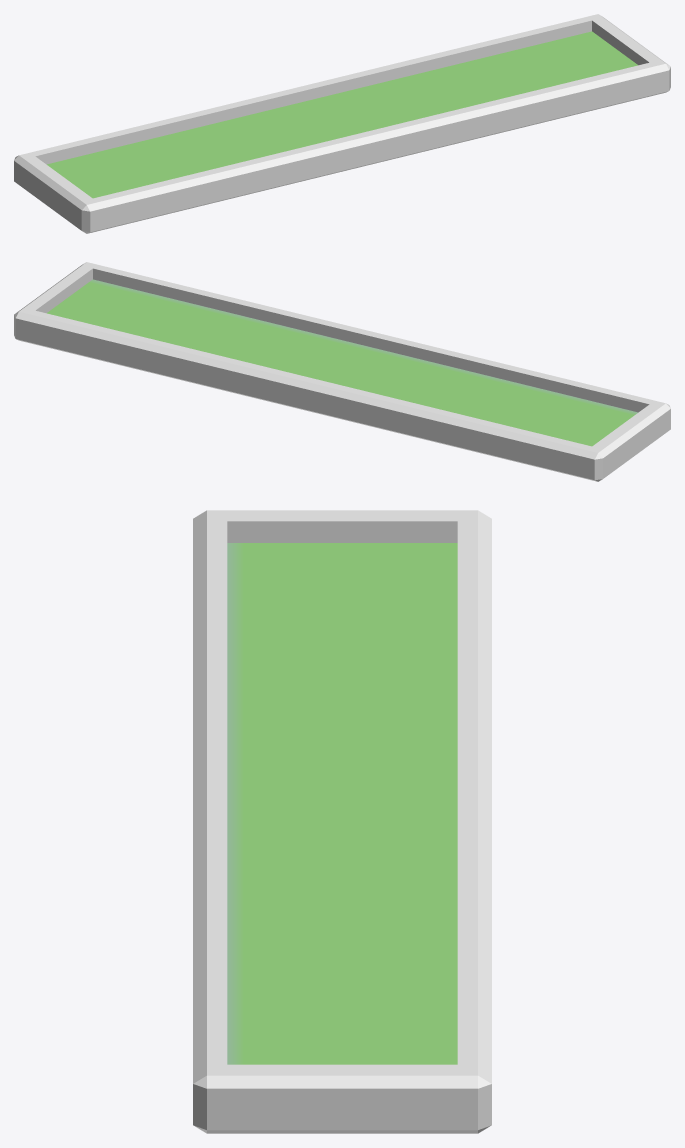
Rendered from be cay.fbx.
The picture shows the model from 3 angles, top to bottom: view 1: azimuth 30°, elevation 25°; view 2: azimuth 150°, elevation 25°; view 3: azimuth 270°, elevation 25°; orthographic projection. The views are drawn at different scales.
Visible parts, largest first — view 1: Bed_3; view 2: Bed_3; view 3: Bed_3.
Boxes of the visible parts, <box> form: Bed_3: <box>14,14,670,233</box>; Bed_3: <box>14,262,670,481</box>; Bed_3: <box>193,510,491,1133</box>.
Size of the model in its own units: 1238 by 58.19 by 272.
